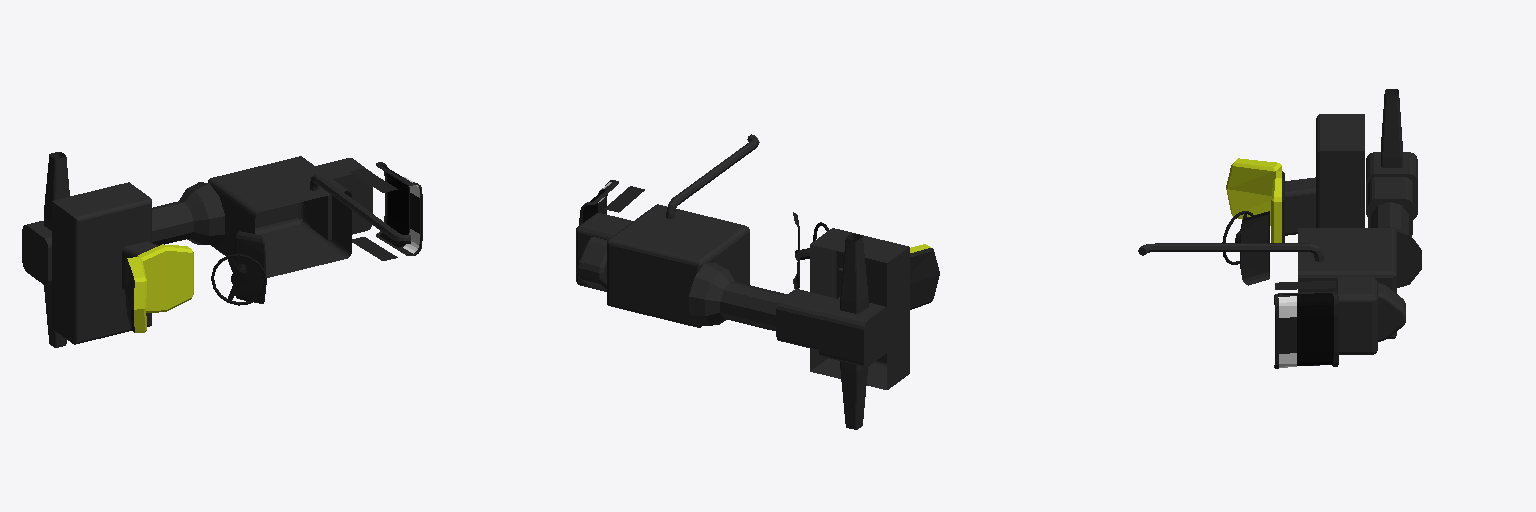
Rendered from tractor_details.obj.
The picture shows the model from 3 angles: view 1: azimuth 30°, elevation 25°; view 2: azimuth 150°, elevation 25°; view 3: azimuth 270°, elevation 25°; orthographic projection.
Parts seen in each view (by area): view 1: engine, plastic, seat, darker_plastic, dark_low_specular; view 2: engine, plastic; view 3: engine, plastic, seat, darker_plastic, headlight.
Boxes of the visible parts, <box> form: engine: <box>22,152,410,347</box>; plastic: <box>125,162,422,332</box>; seat: <box>127,244,193,332</box>; darker_plastic: <box>380,165,408,247</box>; dark_low_specular: <box>211,254,266,305</box>; engine: <box>576,134,909,429</box>; plastic: <box>579,180,939,309</box>; engine: <box>1138,89,1421,354</box>; plastic: <box>1240,171,1338,368</box>; seat: <box>1226,158,1281,242</box>; darker_plastic: <box>1297,294,1333,365</box>; headlight: <box>1278,296,1296,367</box>.
Bounding box in the file's own units: 2.61 × 1.43 × 1.94.